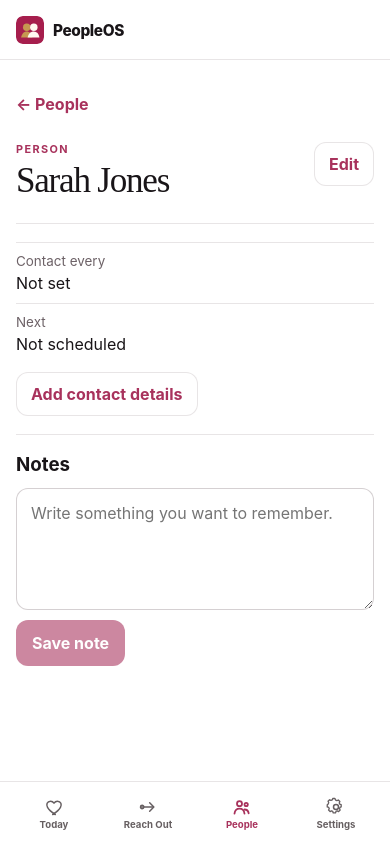
Test case: simple Profile notes and retained interaction routes › saves one plain note without asking the user to understand interaction types
This screenshot has width=390, height=844.
Expected: the heading "Sarah Jones" is shown, [16, 163, 169, 199]
Expected: the button "Save note" is disabled, [16, 620, 125, 666]
In the text box named "Note": (195, 549) [16, 488, 374, 610], type "Ask how the garden project is going."
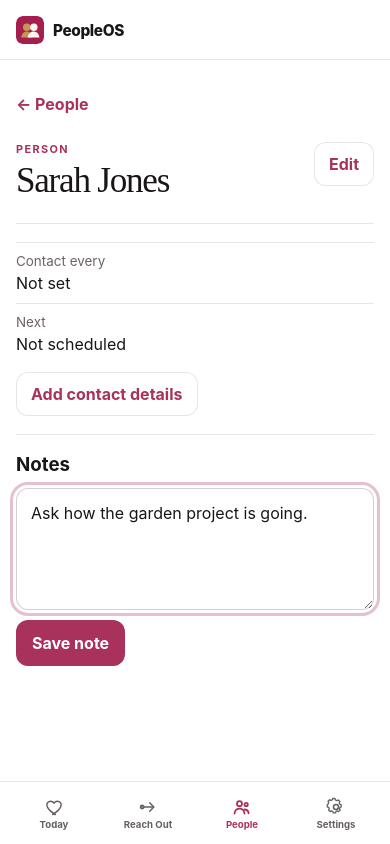
Click the button "Save note": (71, 643) [16, 620, 125, 666]
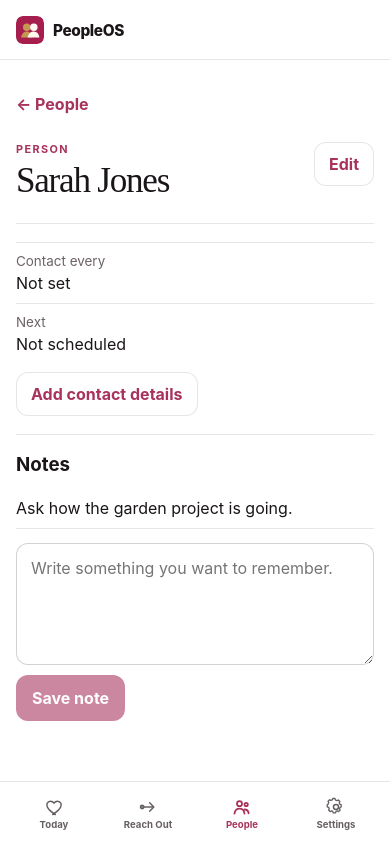
Expected: the text "Ask how the garden project is going." is shown, [16, 488, 374, 529]
